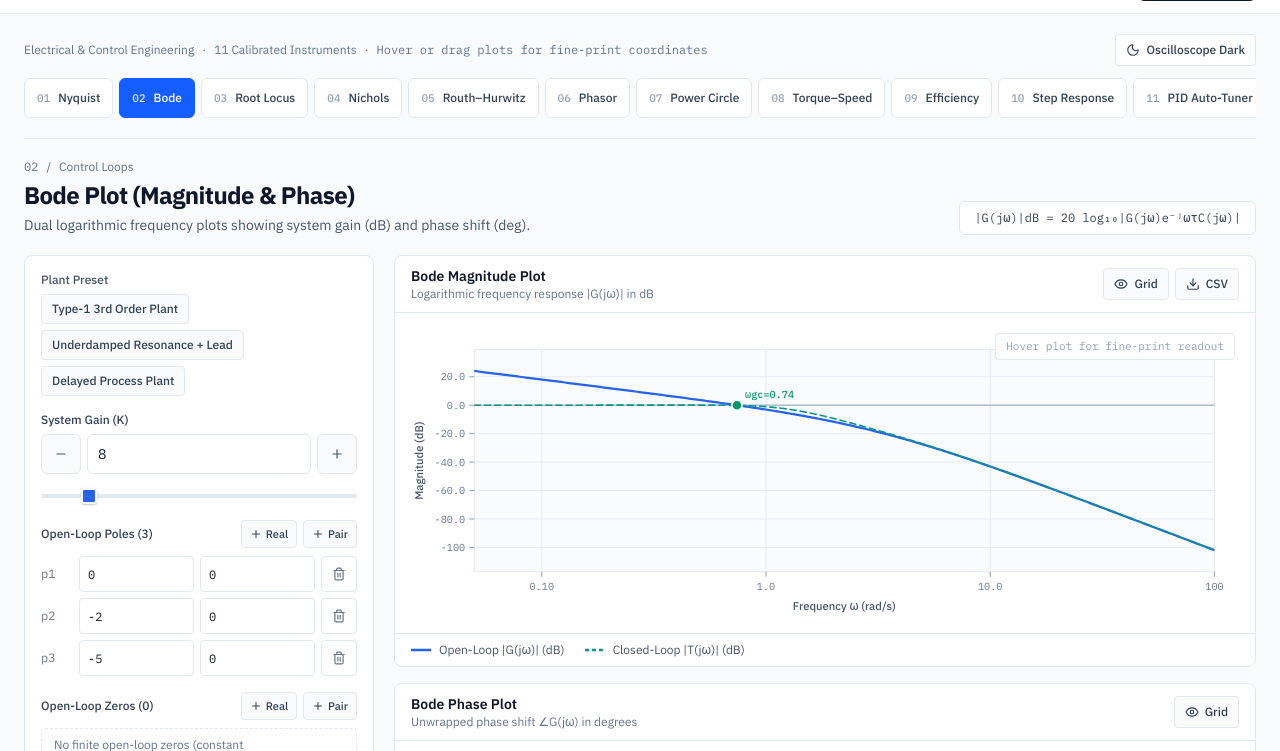
Test: VectorBench Engineering Workbench Integration › recomputes outputs dynamically when engineer updates numeric inputs (Blue Pill)
Click the tab "10 Step Response". click: (1063, 98)
box: 998,78 -> 1127,118
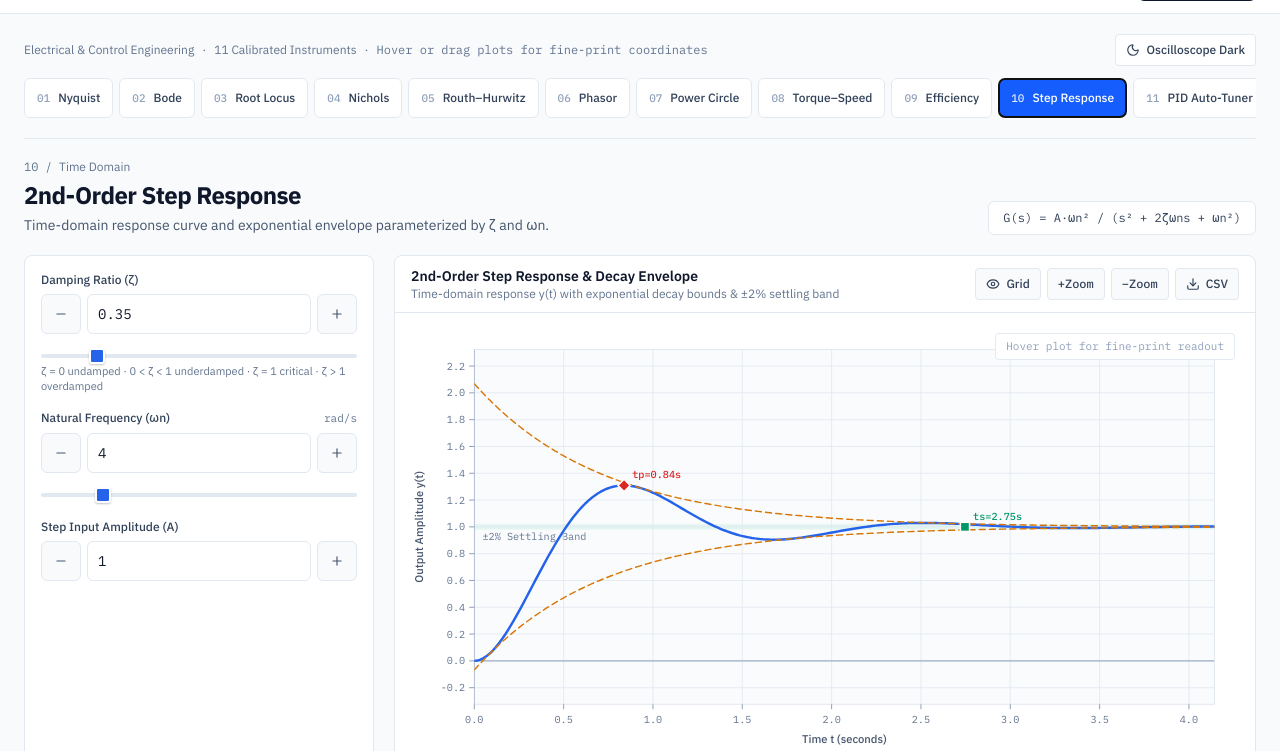
Replace the text in the number field labelled "Damping Ratio (ζ)" with "1". click: (199, 314)
box: 87,294 -> 311,334
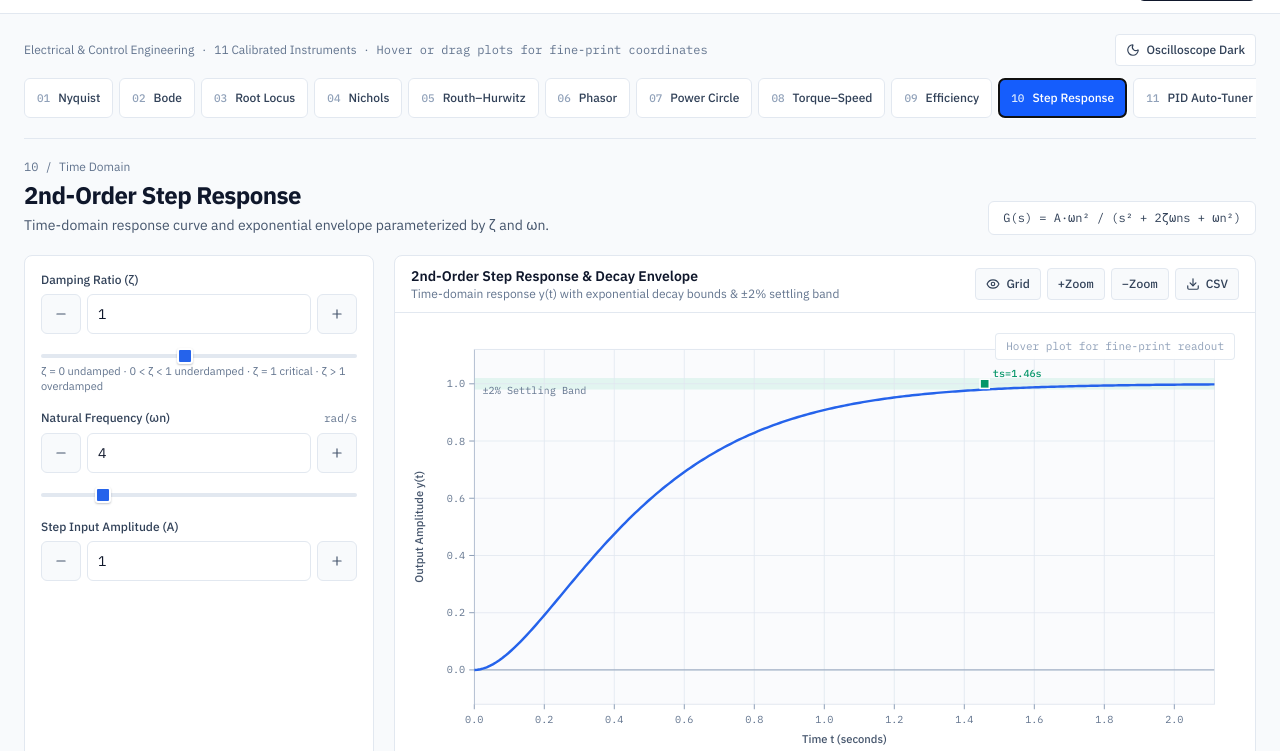
Replace the text in the number field labelled "Damping Ratio (ζ)" with "0.2". click: (199, 314)
box: 87,294 -> 311,334
(page scrolled)
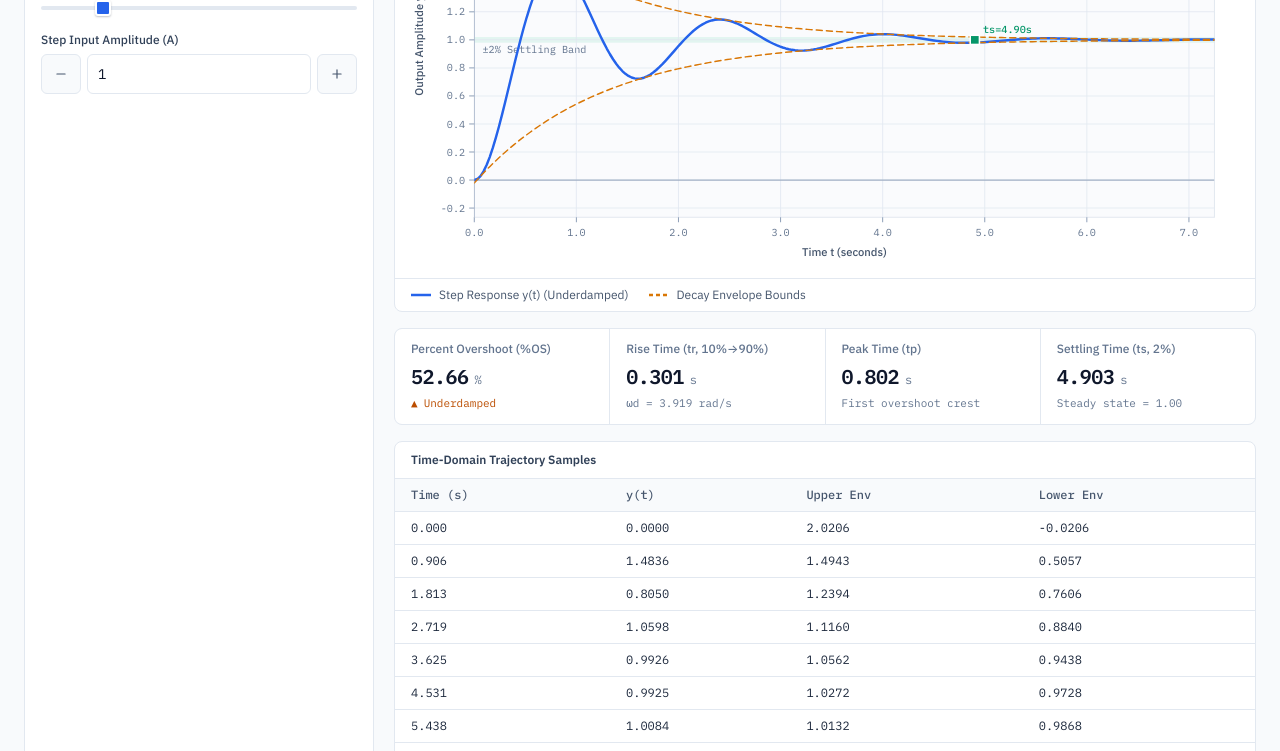
Expected: the text "Underdamped" is shown, 424,395 -> 496,412
